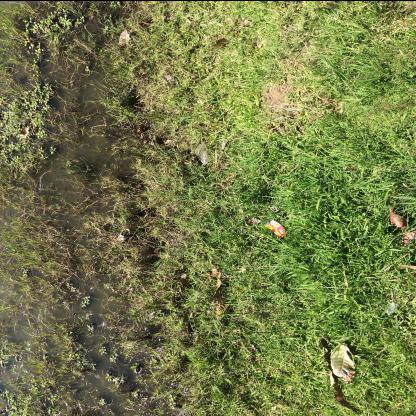plastik: (266, 220, 287, 237)
